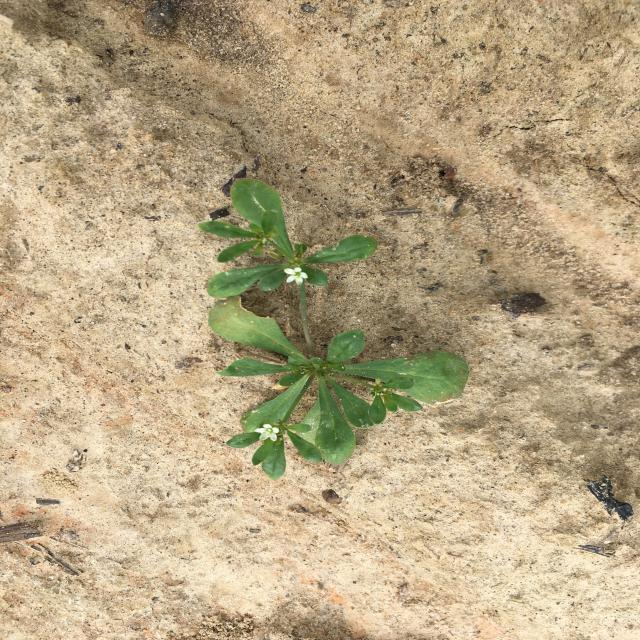Carpetweed: (199, 178, 470, 480)
